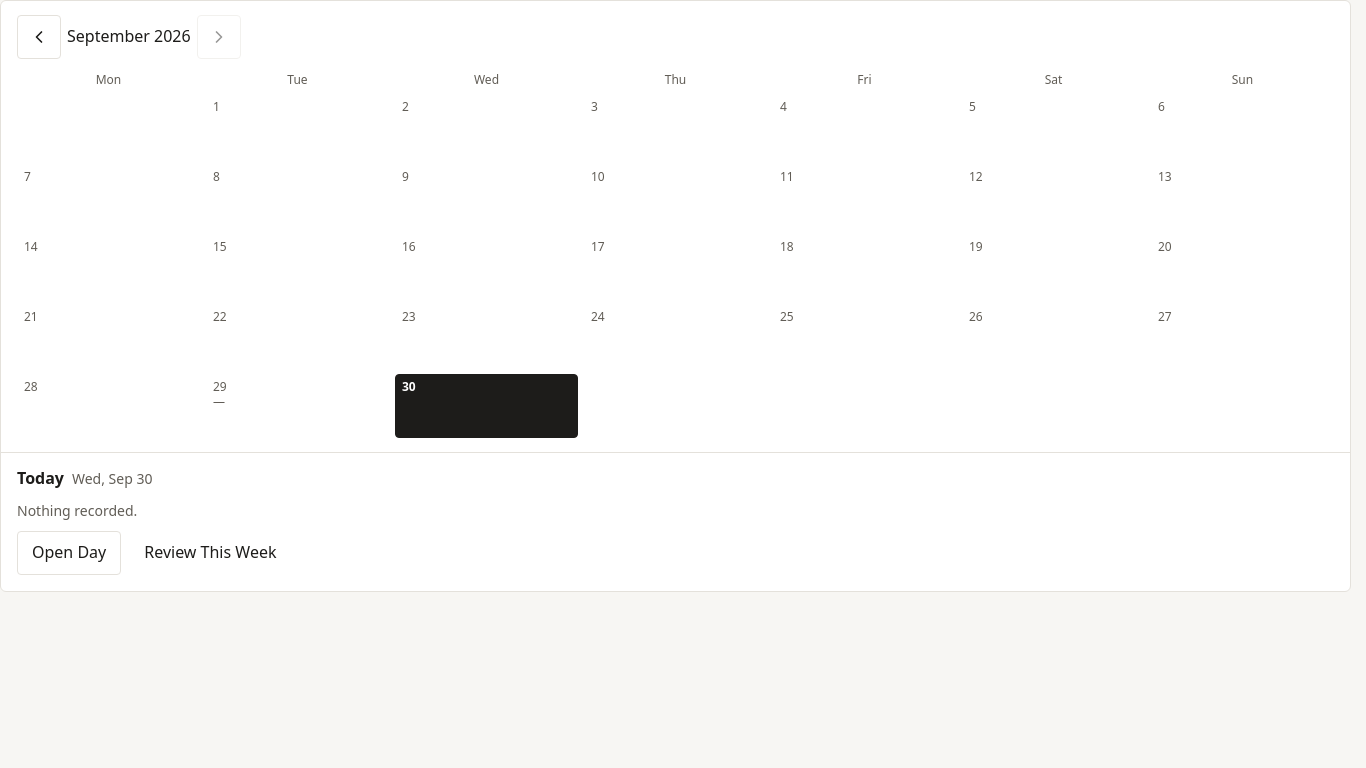
Scenario: Calendar › shows No clock-out for an earlier day left clocked in, in place of its hours
The image size is (1366, 768).
Expected: the text with class "calendar-worked" reads "—", [213,393,225,410]
Click the button "29 —": (298, 406) [206,374,389,438]
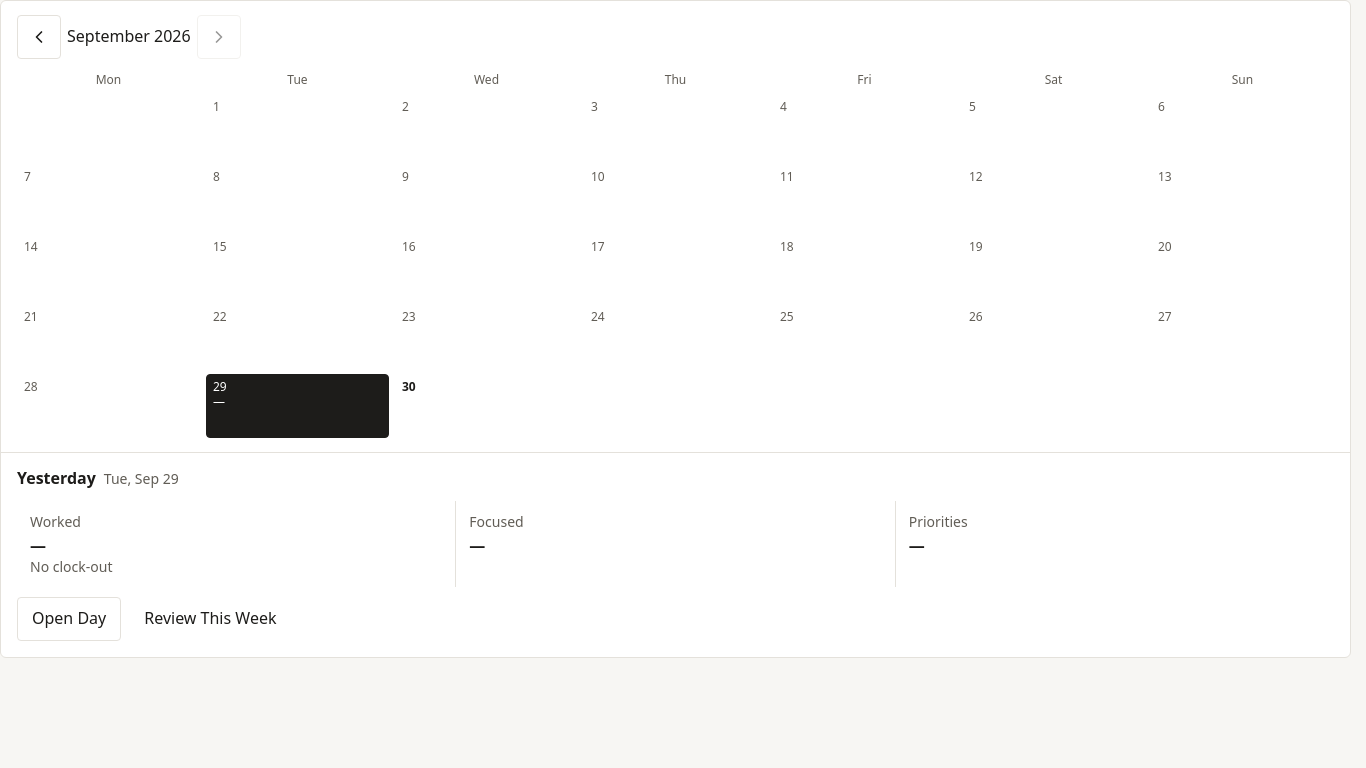
Now the text "No clock-out" is shown, box [30,557,112,576]
